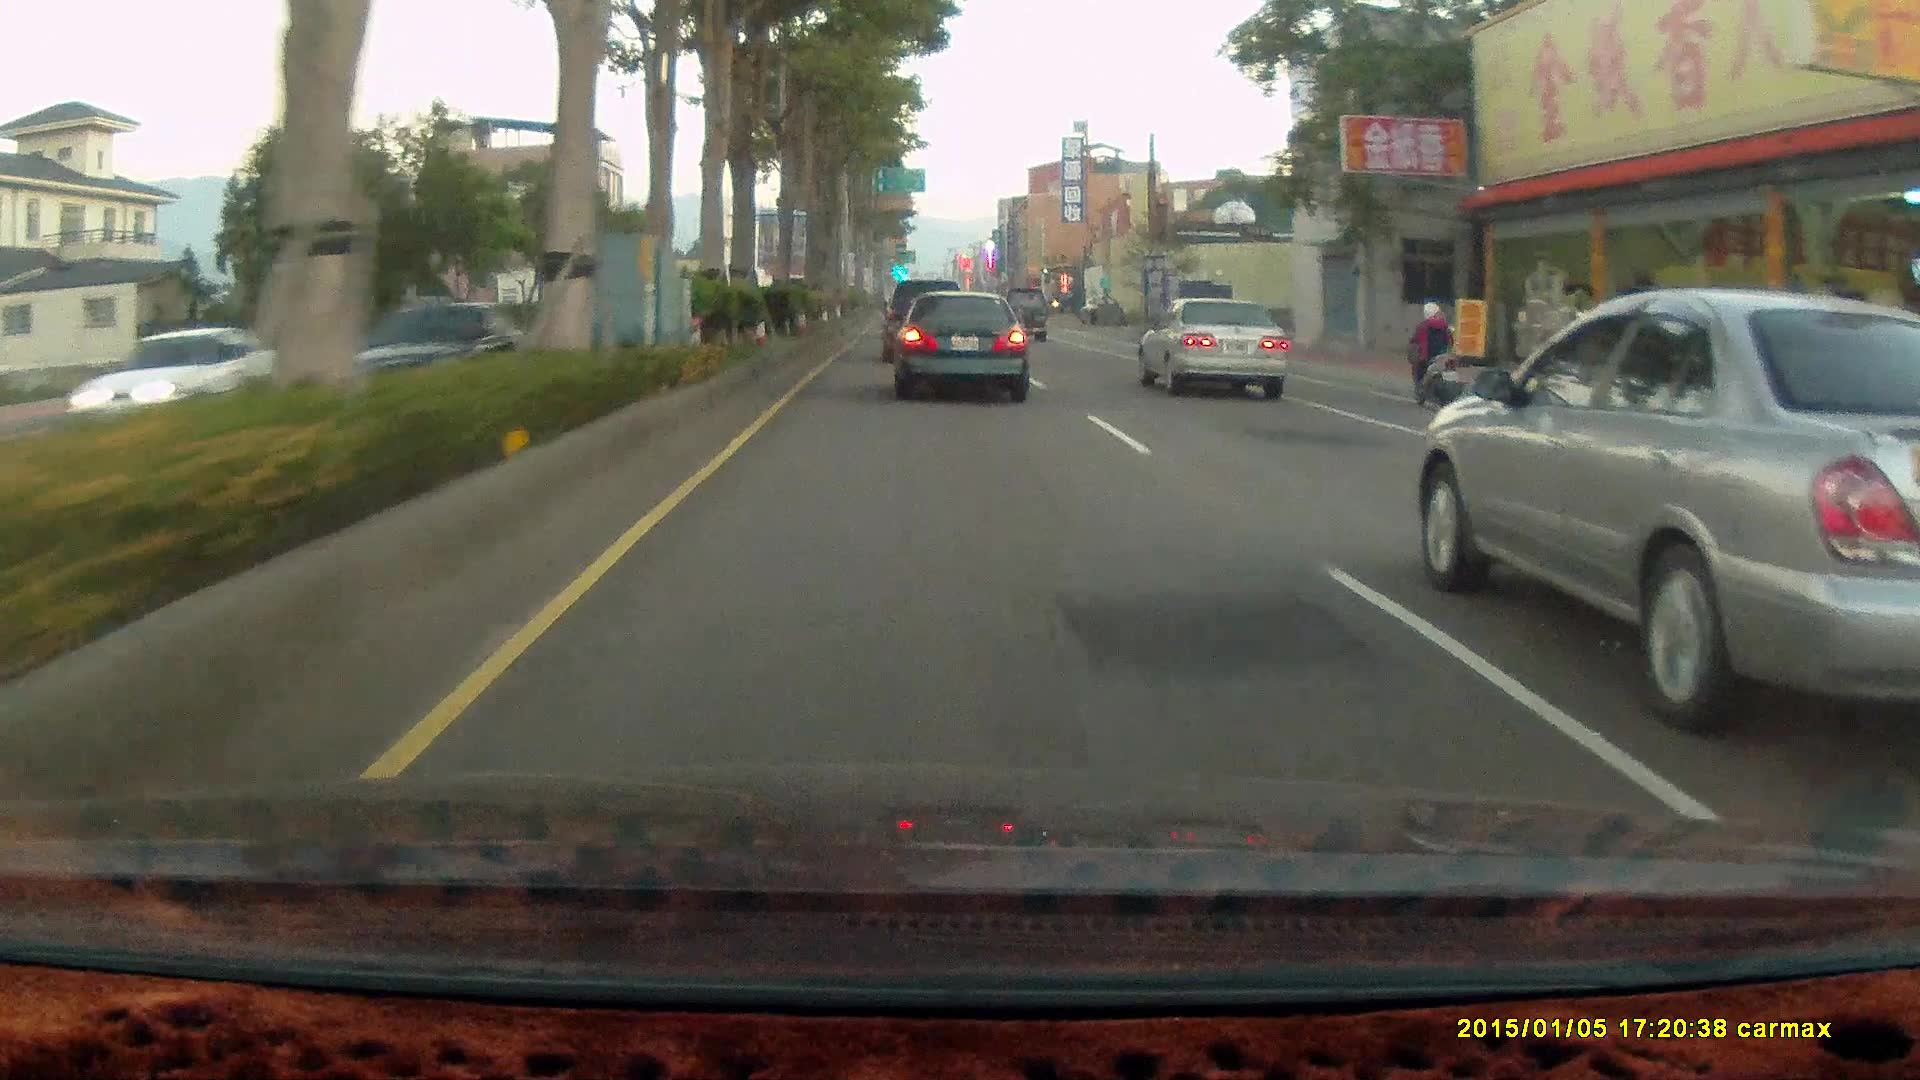rider: (1404, 300, 1468, 410)
vehicle: (1409, 289, 1920, 723), (64, 325, 276, 438), (61, 326, 270, 423), (342, 297, 537, 384), (1139, 295, 1297, 402), (891, 288, 1033, 404), (1135, 297, 1288, 400), (890, 285, 1030, 397), (884, 278, 973, 364), (881, 283, 963, 361), (1162, 275, 1234, 342), (999, 285, 1046, 342)
